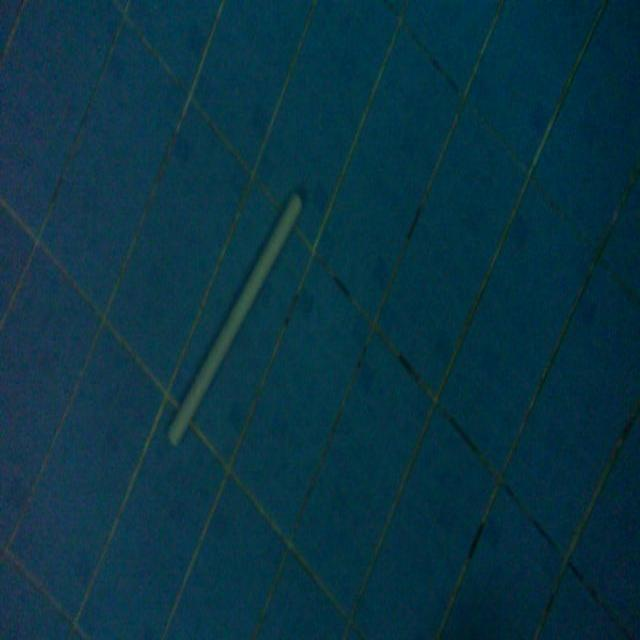Cube: (166, 183, 305, 448)
